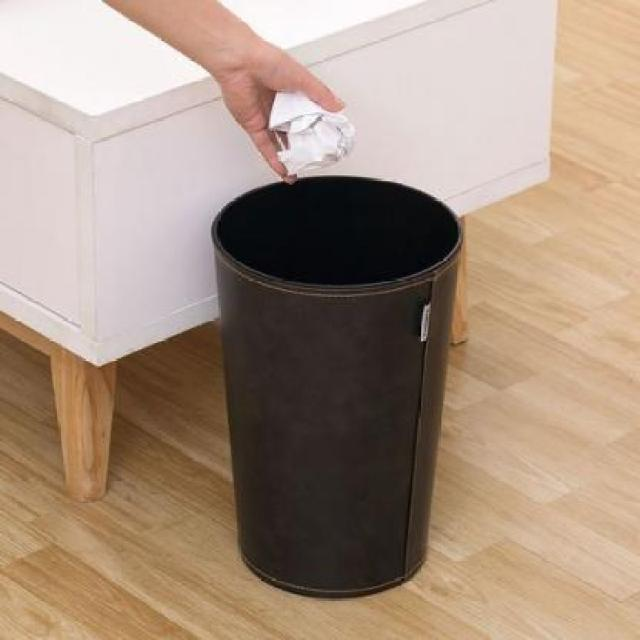dustbin: (208, 168, 467, 604)
